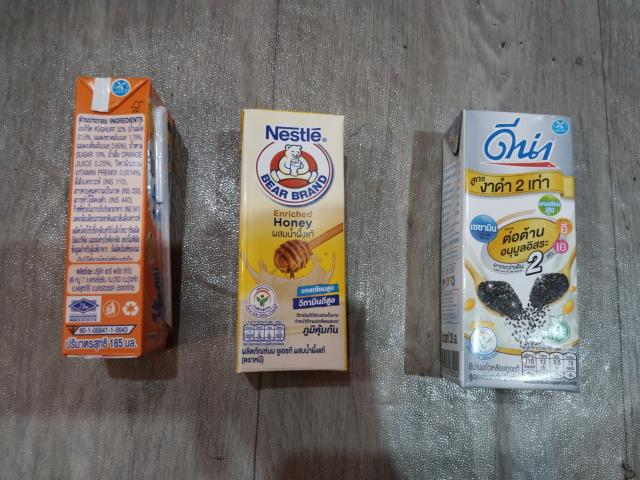drink_box: (441, 108, 582, 390), (236, 106, 354, 374), (71, 73, 180, 360)
